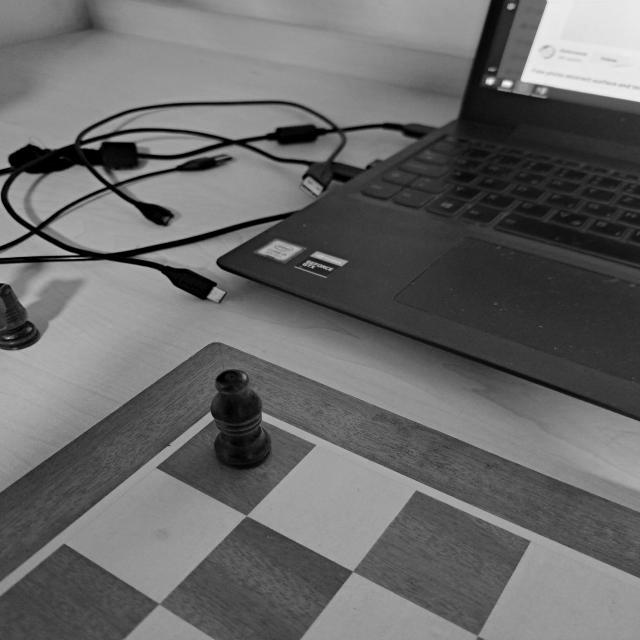chess-table-corners: (185, 384, 285, 446)
